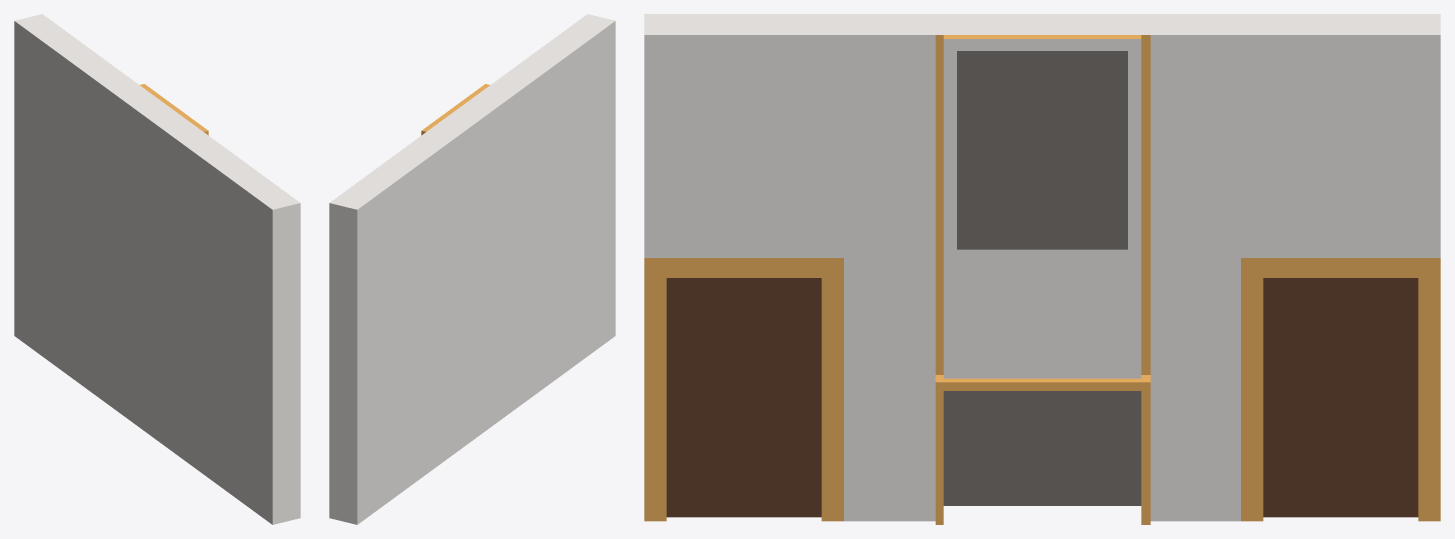
The model's file is Tribunal_Mur03.fbx.
3 views of the same model, side by side, from view 1: azimuth 30°, elevation 25°; view 2: azimuth 150°, elevation 25°; view 3: azimuth 270°, elevation 25° (orthographic). The views are drawn at different scales.
Parts seen in each view (by area): view 1: Mur03; view 2: Mur03; view 3: Mur03.
Boxes of the visible parts, <box> form: Mur03: <box>14,14,300,524</box>; Mur03: <box>329,14,615,524</box>; Mur03: <box>644,14,1440,524</box>.
Size of the model in its own units: 0.8194 by 6.49 by 9.63.
